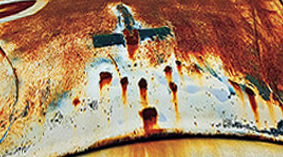rust: (2, 4, 283, 90), (4, 13, 91, 152), (86, 58, 194, 104), (234, 75, 283, 133), (102, 142, 283, 156), (125, 107, 172, 157)
